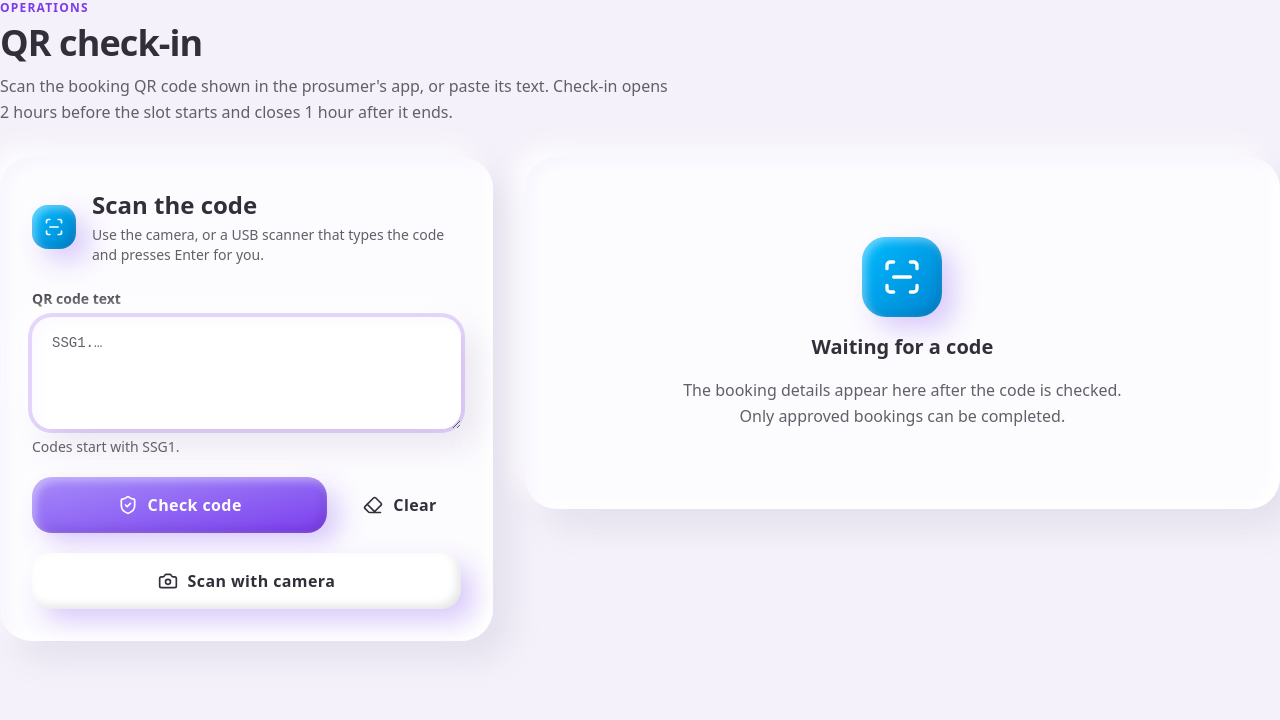
Test: CheckInPage › shows the API reason when completing fails
This screenshot has width=1280, height=720.
In the text box labelled "QR code text": [246, 373] box [32,317,461,429], type "SSG1.66e9a1b2c3d4e5f601234567.A1B2C3D4E5F60718.c2lnbmF0dXJl"
Then press Enter
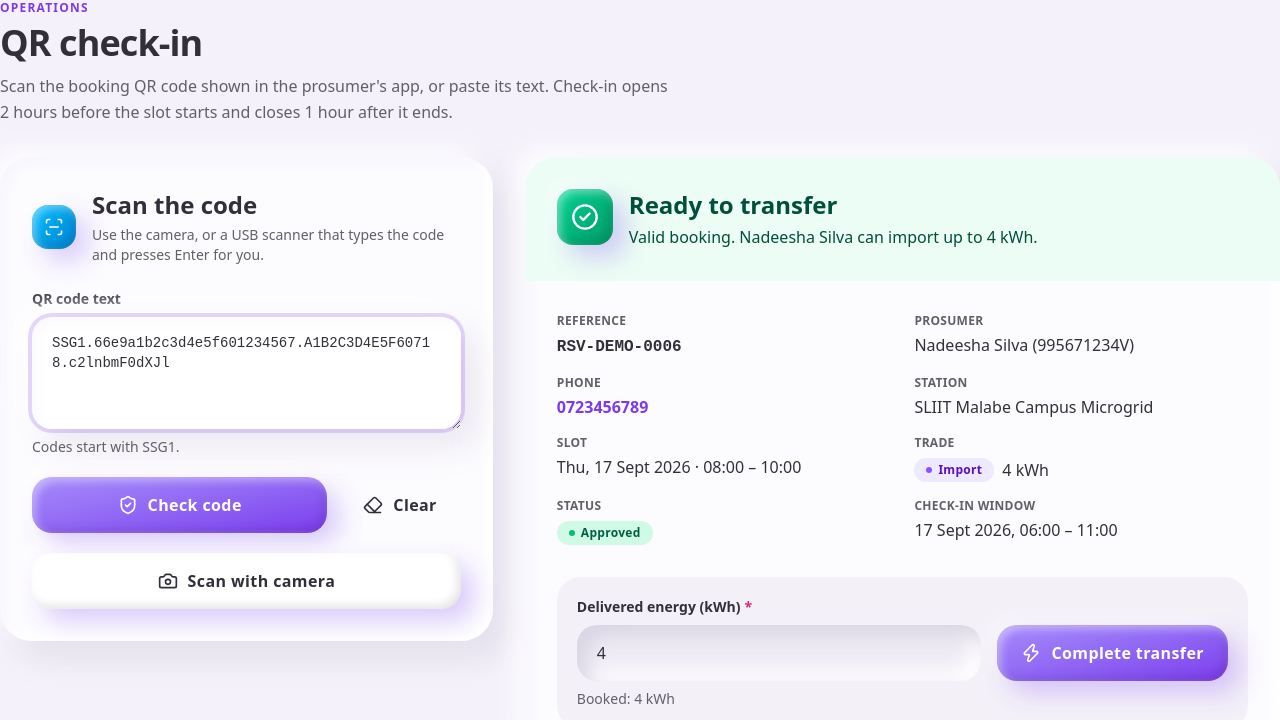
expect the text "Ready to transfer" is shown: met, box [629,188,837,221]
Click the button "Complete transfer": [1113, 653] box [997,625,1228,681]
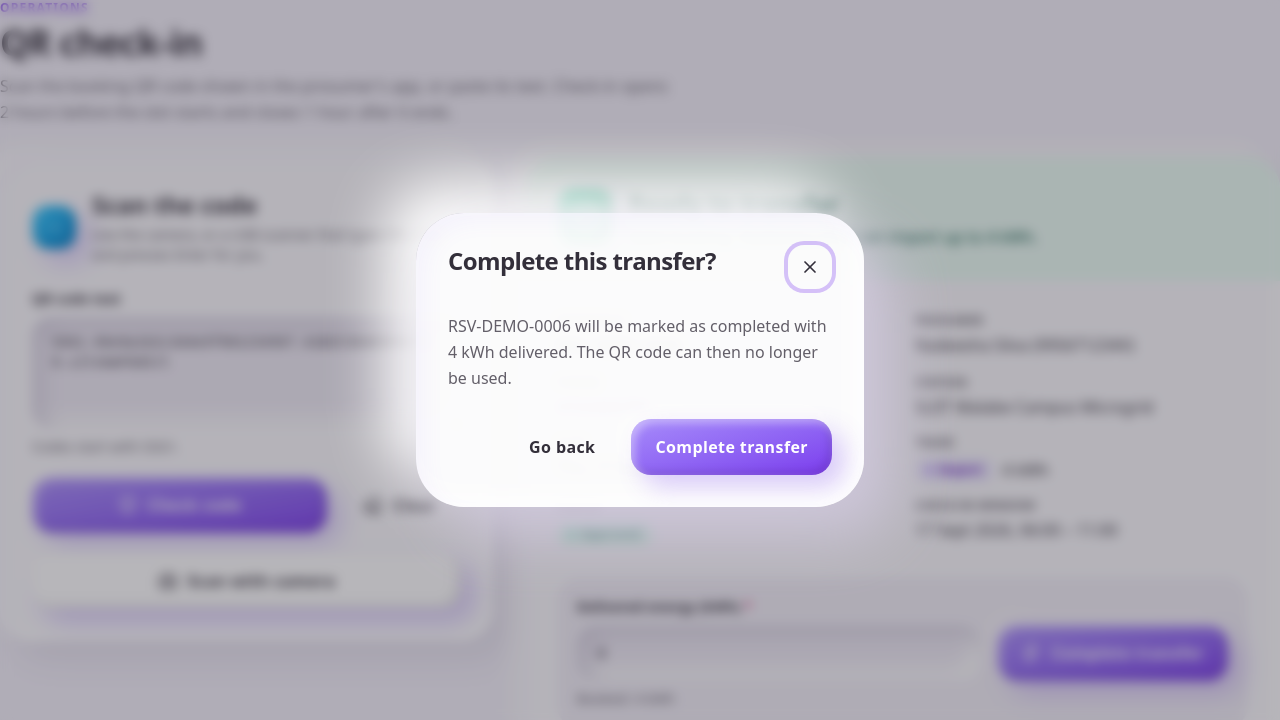
Click the button "Complete transfer": [732, 447] box [631,419,832,475]
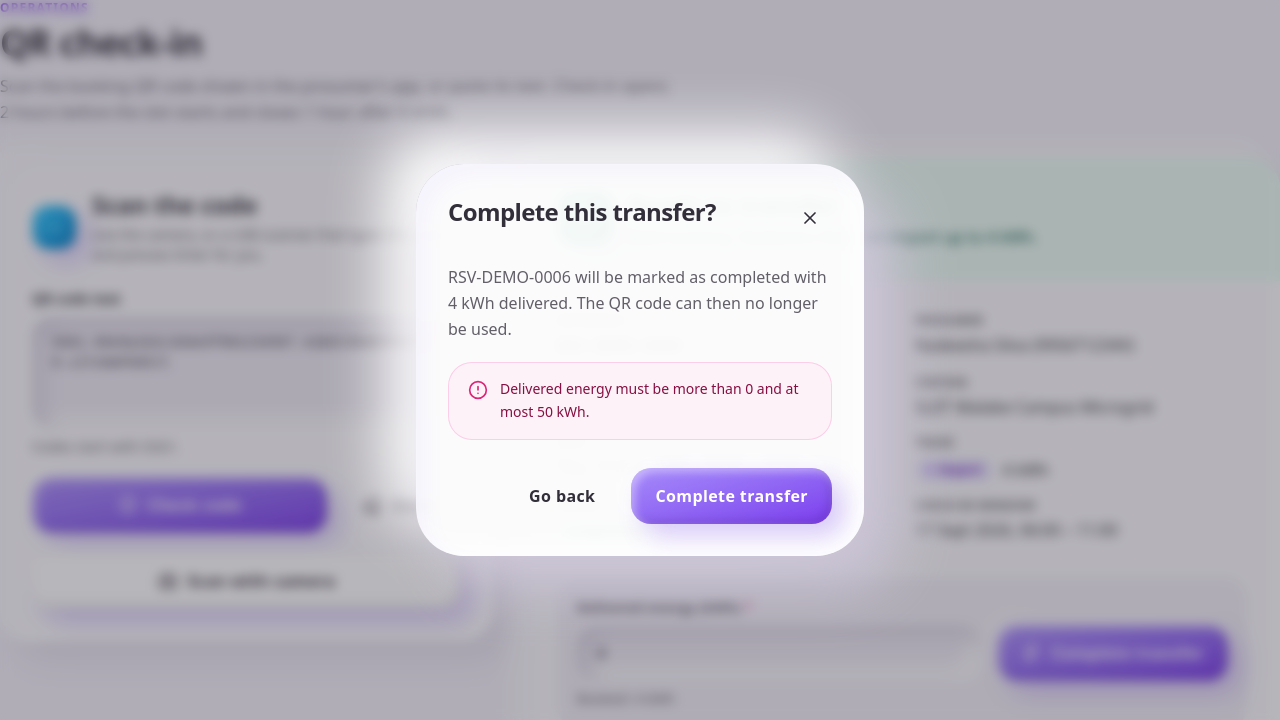
expect the message "Delivered energy must be more than 0 and at most 50 kWh." is shown: met, box [448,362,832,440]
